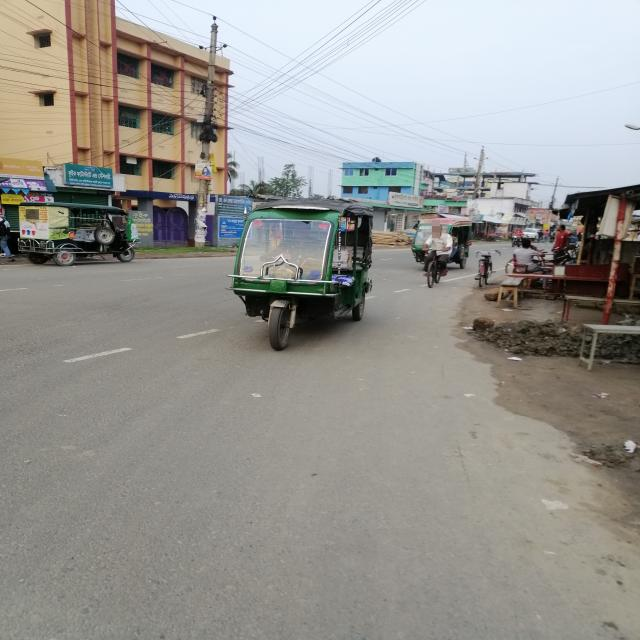Bicycle: (403, 243, 474, 307), (475, 249, 508, 294)
Easybike: (214, 193, 392, 360), (1, 193, 157, 283)
